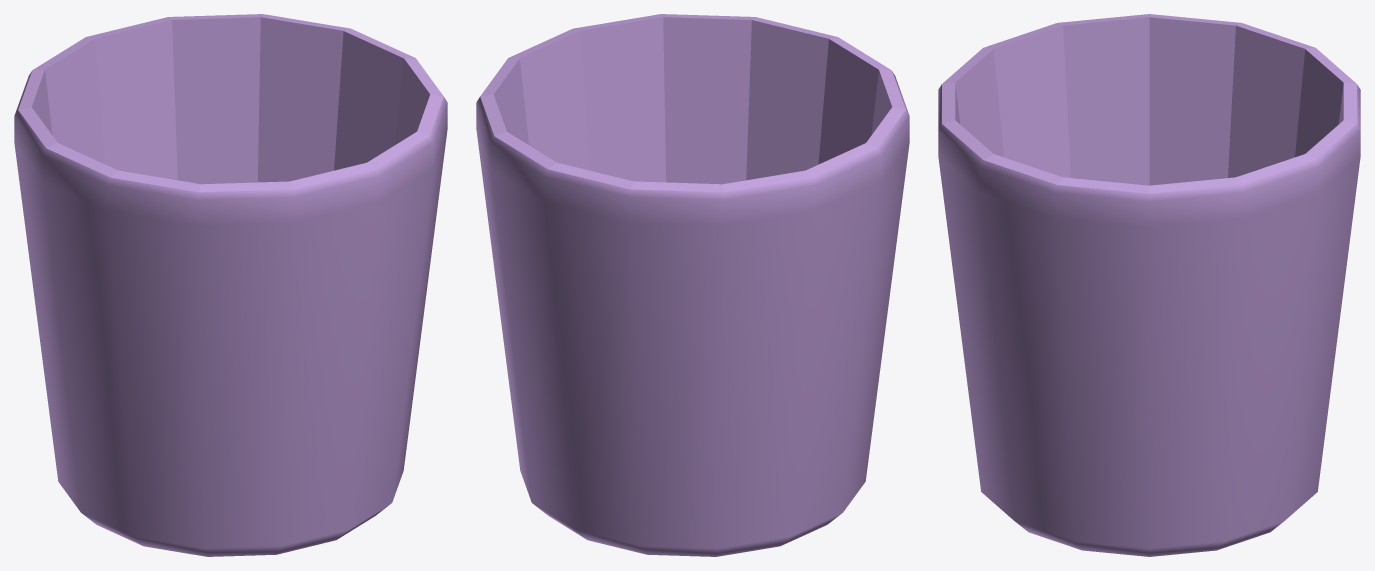
Rendered from Friday_Trashbin.fbx.
The picture shows the model from 3 angles, left to right: view 1: azimuth 30°, elevation 25°; view 2: azimuth 150°, elevation 25°; view 3: azimuth 270°, elevation 25°; orthographic projection.
Visible parts, largest first — view 1: TrashBin; view 2: TrashBin; view 3: TrashBin.
Boxes of the visible parts, bbox=[...] form: TrashBin: bbox=[14, 14, 447, 556]; TrashBin: bbox=[476, 14, 909, 556]; TrashBin: bbox=[938, 14, 1360, 556].
Bounding box in the file's own units: 92.9 × 92.33 × 90.57.
